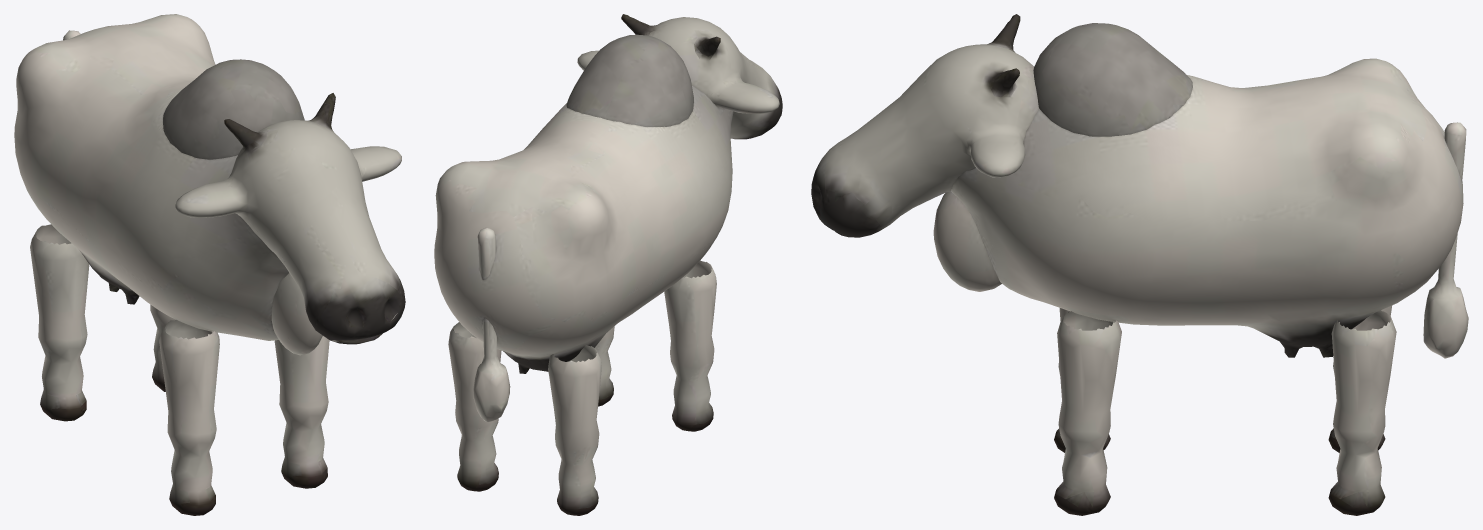
The model's file is animal_zebu.glb.
The picture shows the model from 3 angles, left to right: view 1: azimuth 30°, elevation 25°; view 2: azimuth 150°, elevation 25°; view 3: azimuth 270°, elevation 25°; orthographic projection. The views are drawn at different scales.
Visible parts, largest first — view 1: animal_zebu, head, leg0, leg2, leg1, leg3; view 2: animal_zebu, head, leg2, leg0, leg3, tail, leg1; view 3: animal_zebu, head, leg1, leg3, tail.
Boxes of the visible parts, x1,y1,x2,y2 form: animal_zebu: [14, 14, 322, 355]; head: [175, 93, 405, 344]; leg0: [159, 320, 219, 515]; leg2: [30, 224, 89, 421]; leg1: [274, 336, 329, 488]; leg3: [150, 304, 175, 391]; animal_zebu: [434, 34, 733, 373]; head: [577, 14, 782, 139]; leg2: [548, 345, 601, 515]; leg0: [664, 260, 716, 431]; leg3: [448, 322, 501, 491]; tail: [473, 228, 510, 422]; leg1: [595, 326, 614, 406]; animal_zebu: [933, 23, 1463, 357]; head: [811, 14, 1038, 237]; leg1: [1054, 311, 1121, 515]; leg3: [1328, 310, 1396, 515]; tail: [1423, 122, 1468, 358].
Bounding box in the file's own units: 0.2992 × 0.5486 × 0.7183.
1 material, 1 textured.
